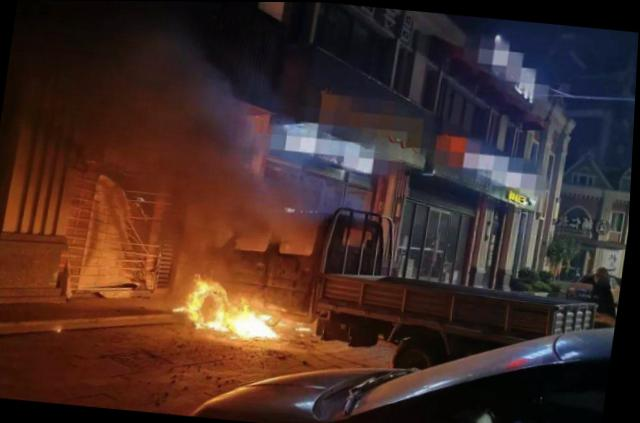fire: (179, 271, 292, 342)
